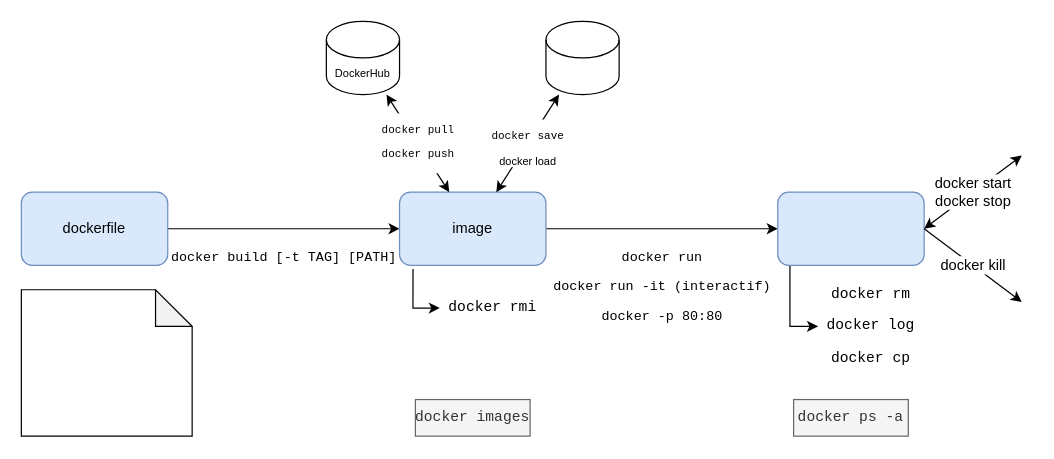
This 1054x459 diagram has some shape labels left out. Each missing label, with the centre of its shape:
container: (850,228)
FROM rocker/tidyverse COPY file file RUN script.sh CMD "R -e package::run()": (106,362)
USB, etc ...: (582,57)
